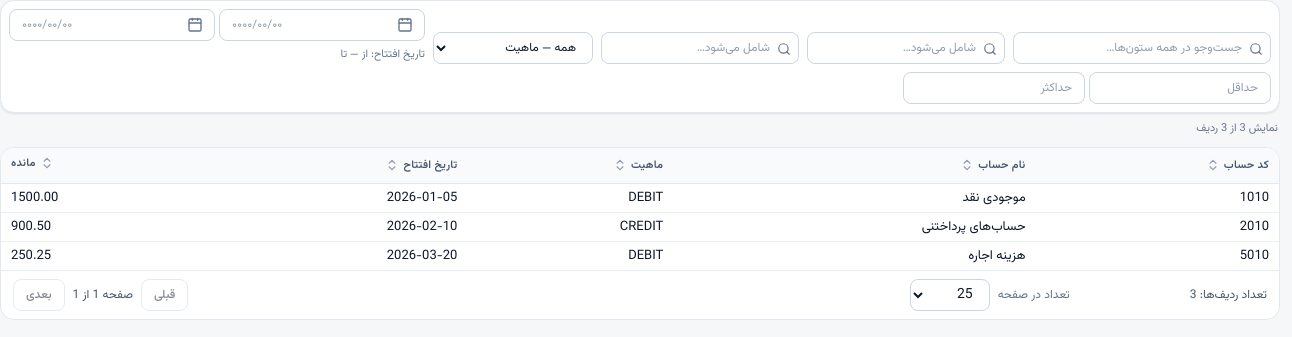
Test: DataTable client mode — column filters › filters an exact decimal amount with the number-range filter
The image size is (1292, 337).
Type "900.50" into the field named "مانده — حداکثر". click: (994, 88)
box: top-left (903, 72), bottom-right (1085, 104)
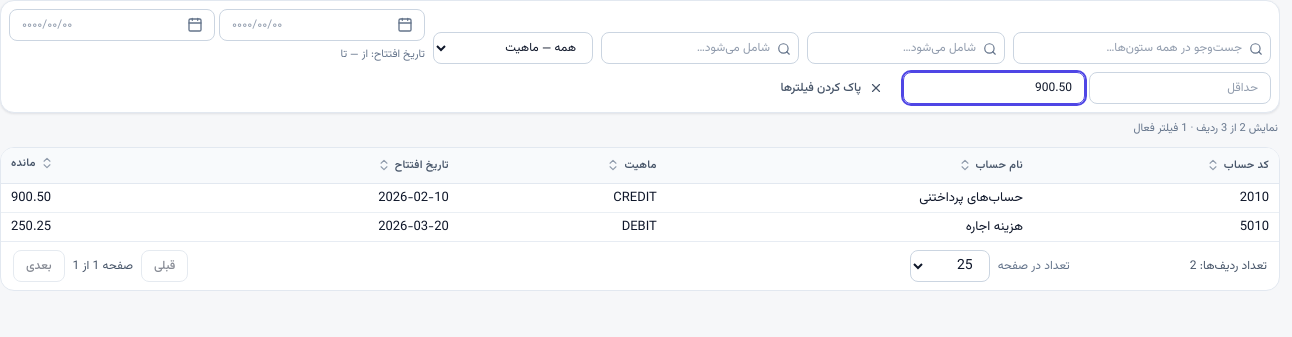
Expected: the text "حساب‌های پرداختنی" is shown, top-left (667, 184), bottom-right (1033, 213)
Result: the text "موجودی نقد" is gone
